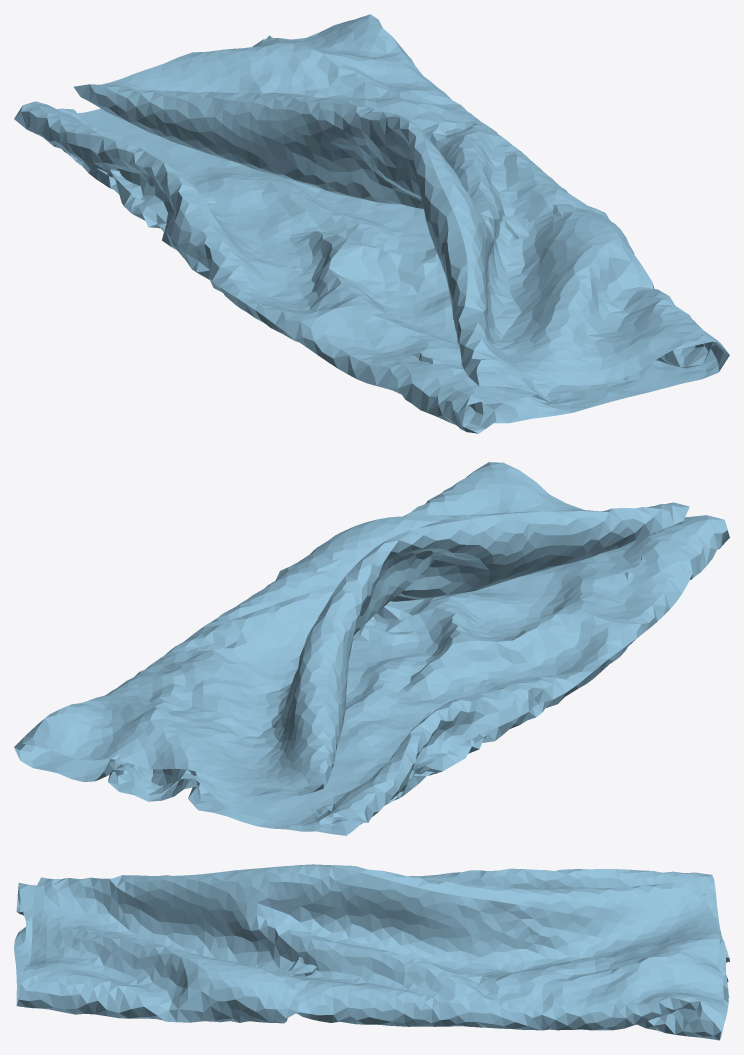
The model's file is frame_00.glb.
3 views of the same model, one above another, from view 1: azimuth 30°, elevation 25°; view 2: azimuth 150°, elevation 25°; view 3: azimuth 270°, elevation 25° (orthographic). The views are drawn at different scales.
Parts seen in each view (by area): view 1: frame_00.obj; view 2: frame_00.obj; view 3: frame_00.obj.
Part boxes in pixels (x1,y1,x2,y2): frame_00.obj: (14, 14, 729, 433); frame_00.obj: (14, 462, 729, 835); frame_00.obj: (14, 864, 729, 1040).
Size of the model in its own units: 0.8864 by 0.2867 by 1.74.
